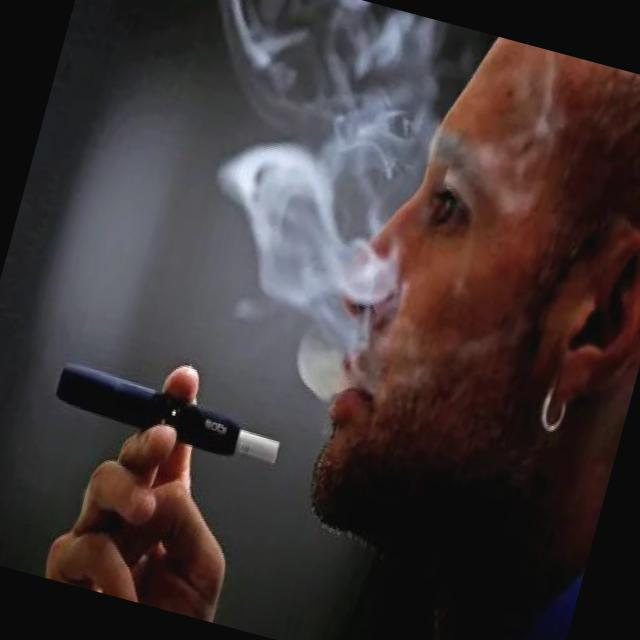cigarette: (226, 420, 290, 473)
